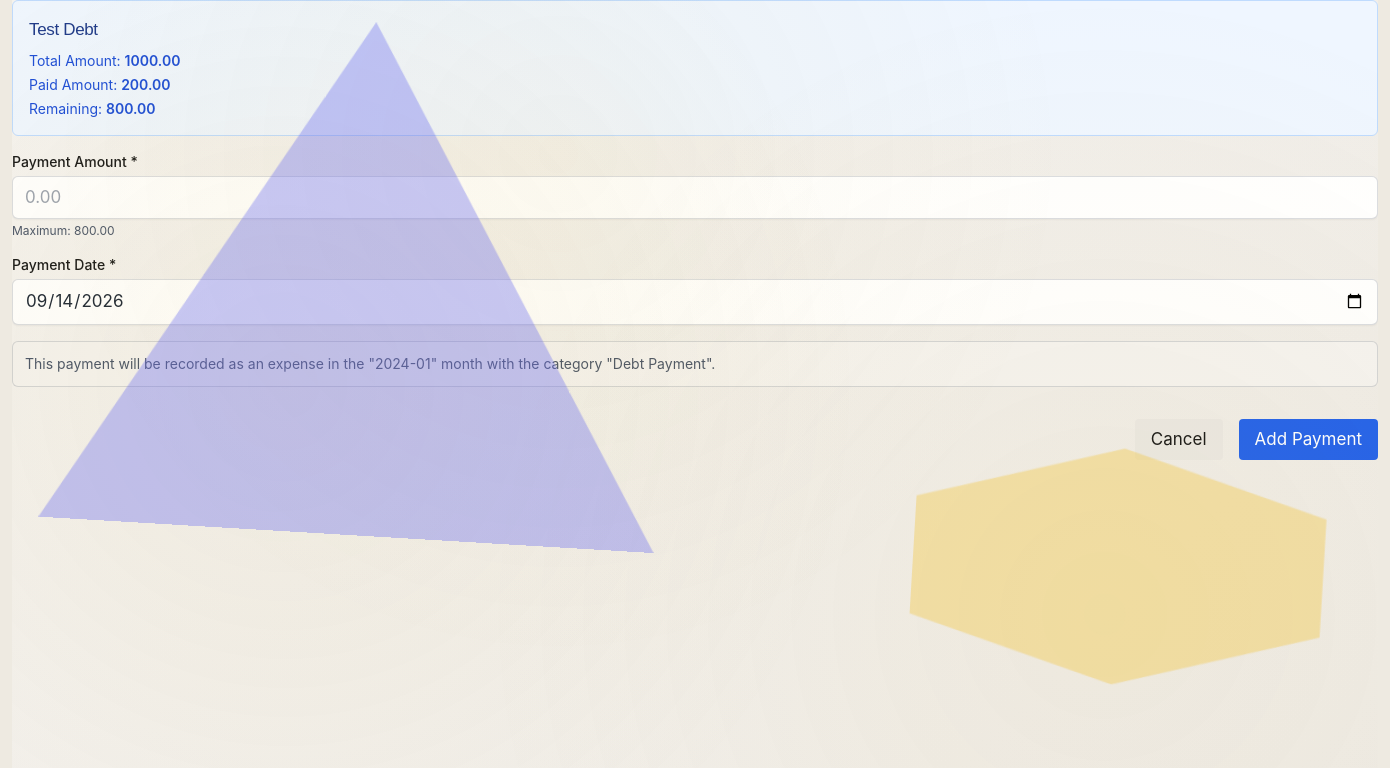
Test: DebtPaymentModal - Input Field Fix › should reject special characters except decimal point
The image size is (1390, 768).
Try to type special characters
Type "12@#$34" into the field labelled "Payment Amount" at (695, 197), box [12,176,1378,219]
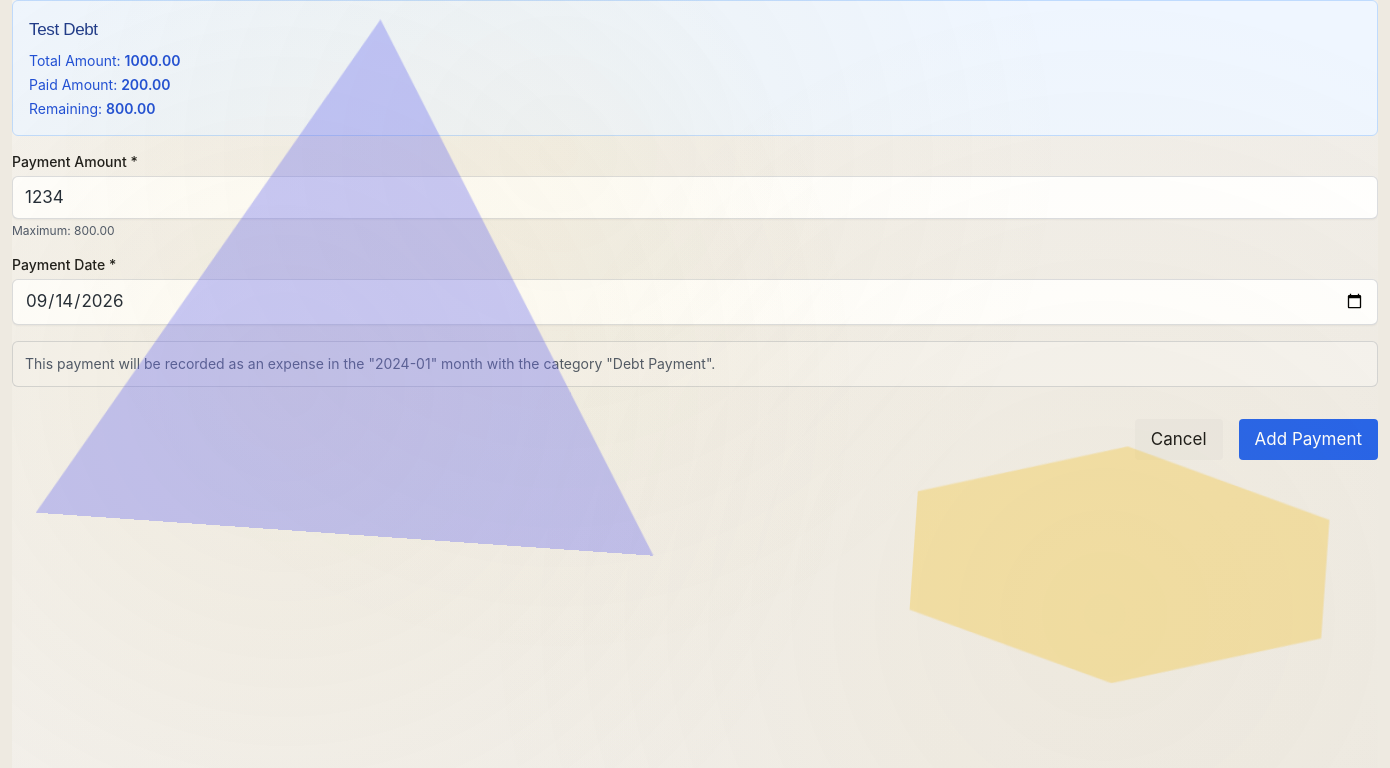
Expected: the field labelled "Payment Amount" holds "1234", [12,176,1378,219]
